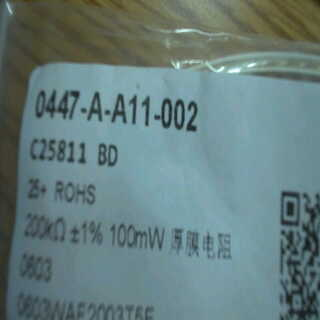200kR: (20, 209, 65, 245)
